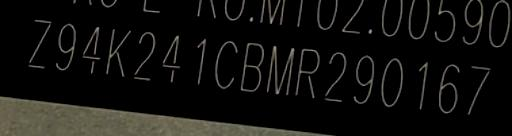letter: (264, 43, 296, 97), (130, 28, 158, 85), (464, 61, 492, 116), (104, 25, 132, 79), (292, 46, 320, 100), (378, 55, 406, 109), (321, 49, 349, 102), (212, 37, 240, 89), (436, 60, 462, 115), (26, 15, 52, 69), (350, 53, 376, 106), (238, 40, 264, 92), (160, 30, 184, 84), (54, 21, 78, 71), (80, 24, 102, 74), (192, 34, 208, 88), (414, 58, 430, 111)
